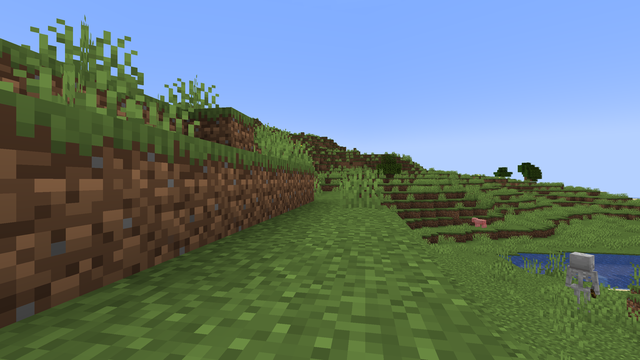cochons: (474, 218, 485, 227)
squelettes: (565, 252, 599, 316)
